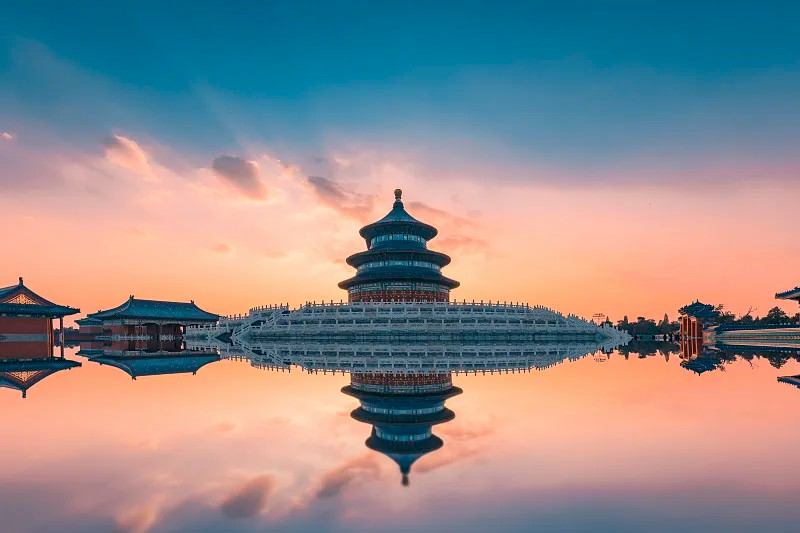Heaven: (337, 188, 460, 304)
